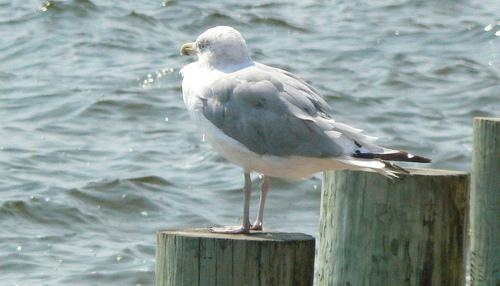bird: (173, 23, 423, 215)
